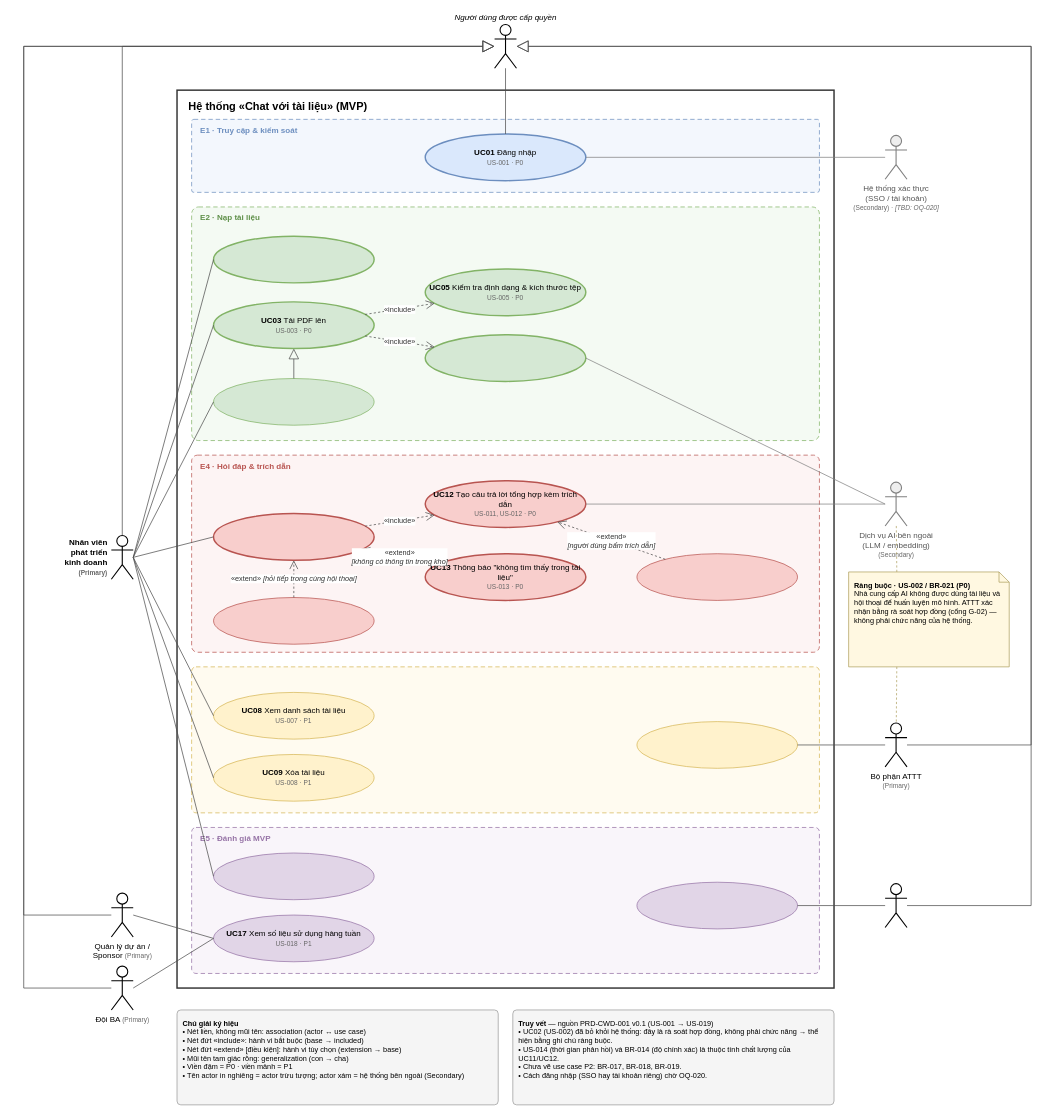
Image size: 1056x1118. Some labels were removed from this diagram. The box of each missing label's shape, as (x1, y1, x2, y2) in pixels:
E3 · Quản lý kho tài liệu: (191, 666, 819, 813)
UC04 Xem trạng thái xử lý tệp US-004 · P0: (212, 235, 374, 283)
UC06 Xử lý & lập chỉ mục tài liệu BR-004 · P0: (424, 334, 586, 382)
UC07 Tải nhiều PDF cùng lúc US-006 · P1: (213, 378, 374, 425)
UC10 Xem nhật ký tải lên / xóa tài liệu US-009 · P1: (636, 721, 798, 768)
UC11 Đặt câu hỏi về tài liệu US-010, US-014 · P0: (212, 512, 374, 561)
UC14 Mở trang tài liệu được trích dẫn US-015 · P1: (636, 553, 798, 600)
UC15 Hỏi tiếp trong hội thoại US-016 · P1: (213, 597, 374, 644)
UC16 Đánh giá câu trả lời US-017 · P1: (213, 852, 374, 900)
UC18 Theo dõi chi phí dịch vụ AI hàng tuần US-019 · P1: (636, 881, 798, 929)
Đội kỹ thuật (Primary): (884, 883, 907, 928)
